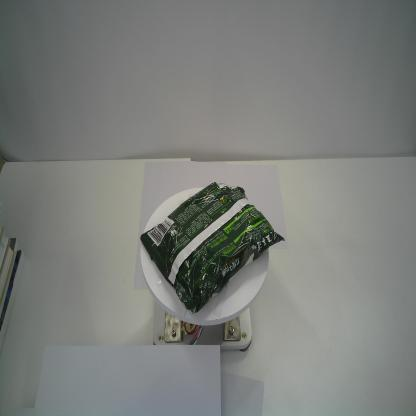Instant Noodles: (140, 181, 285, 315)
